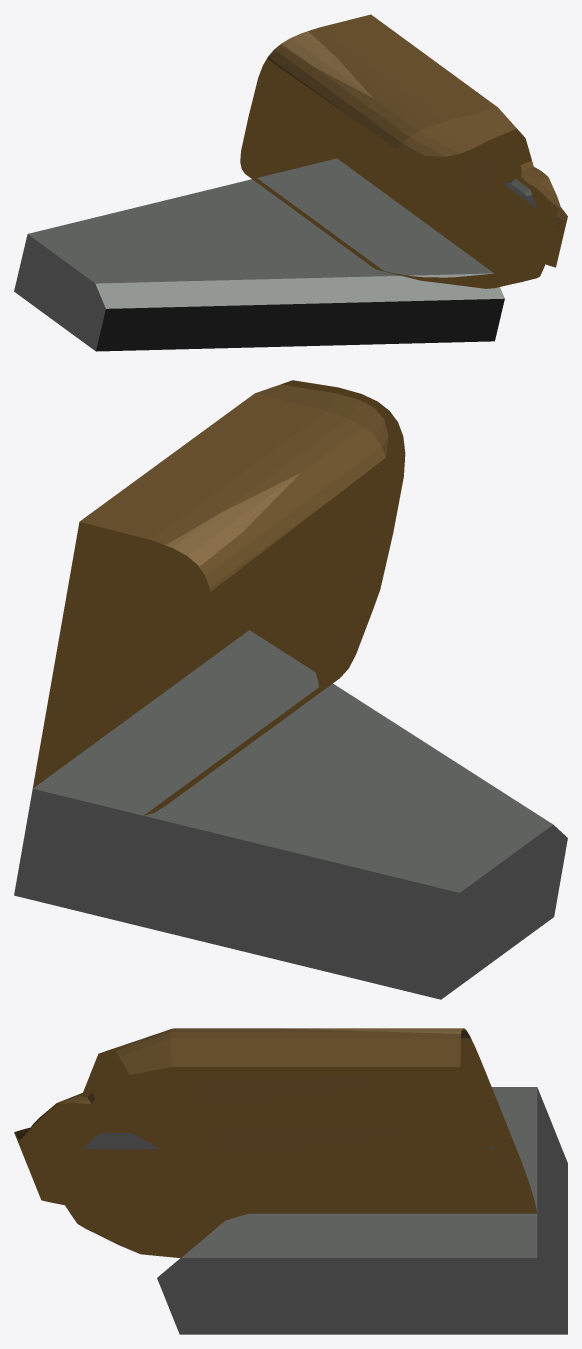
File: pineapple_231.glb
3 renders of one model, top to bottom at view 1: azimuth 30°, elevation 25°; view 2: azimuth 150°, elevation 25°; view 3: azimuth 270°, elevation 25°, orthographic. The views are drawn at different scales.
Visible parts, largest first — view 1: pineapple_231; view 2: pineapple_231; view 3: pineapple_231.
Part boxes in pixels (x1=…): pineapple_231: x1=14, y1=14, x2=567, y2=351; pineapple_231: x1=14, y1=380, x2=567, y2=999; pineapple_231: x1=14, y1=1028, x2=567, y2=1334.
Bounding box in the file's own units: 24 × 17.5 × 32.81.
